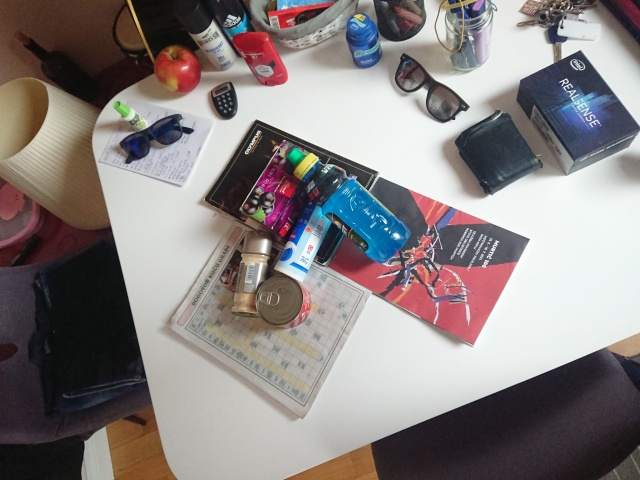Franck Black Currant Tea 60g: (236, 137, 322, 246)
Kotanyi Garlic Granules 70g: (229, 228, 275, 320)
Podravka Luncheon Meat 150g: (254, 273, 314, 331)
Solana Pag Fine Sea Salt 250g: (272, 200, 338, 284)
Vindi Iso Sport Forest Strawberries 500mL: (283, 145, 413, 265)
